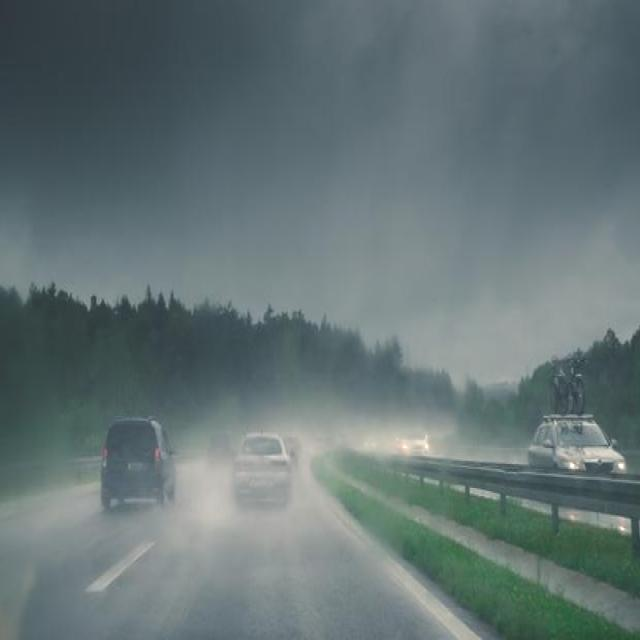Car: (90, 400, 181, 533), (514, 412, 628, 490), (218, 426, 300, 518), (388, 404, 449, 461)
Cycle: (524, 345, 612, 404)
